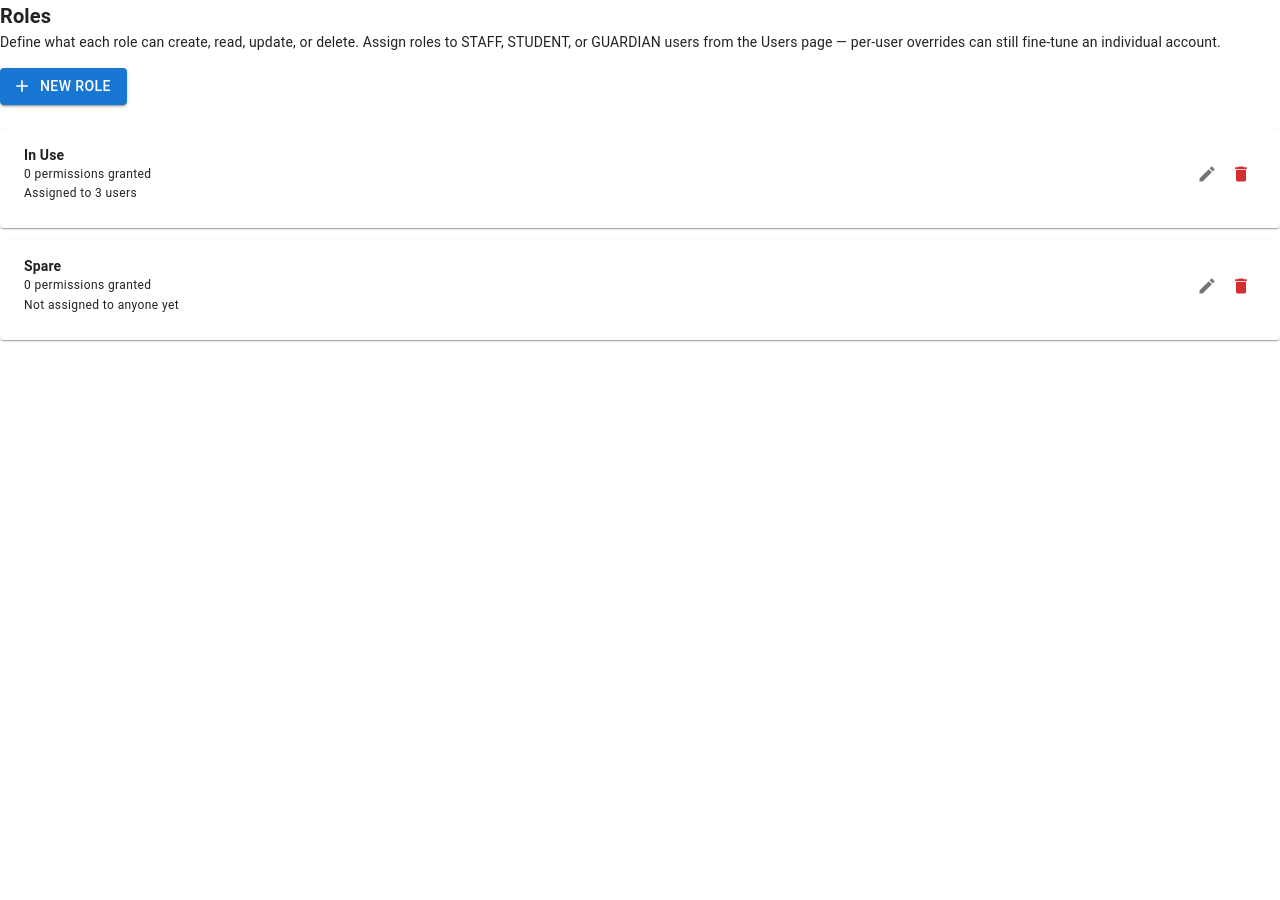
Test: RolesManager › says how many users hold each role and warns before deleting one that is in use
The width and height of the screenshot is (1280, 900).
Expected: the text "Assigned to 3 users" is shown, [24, 184, 152, 204]
Expected: the text "Not assigned to anyone yet" is shown, [24, 296, 179, 316]
Click the button with test id "DeleteIcon" at point(1241, 174), box [1226, 159, 1256, 189]
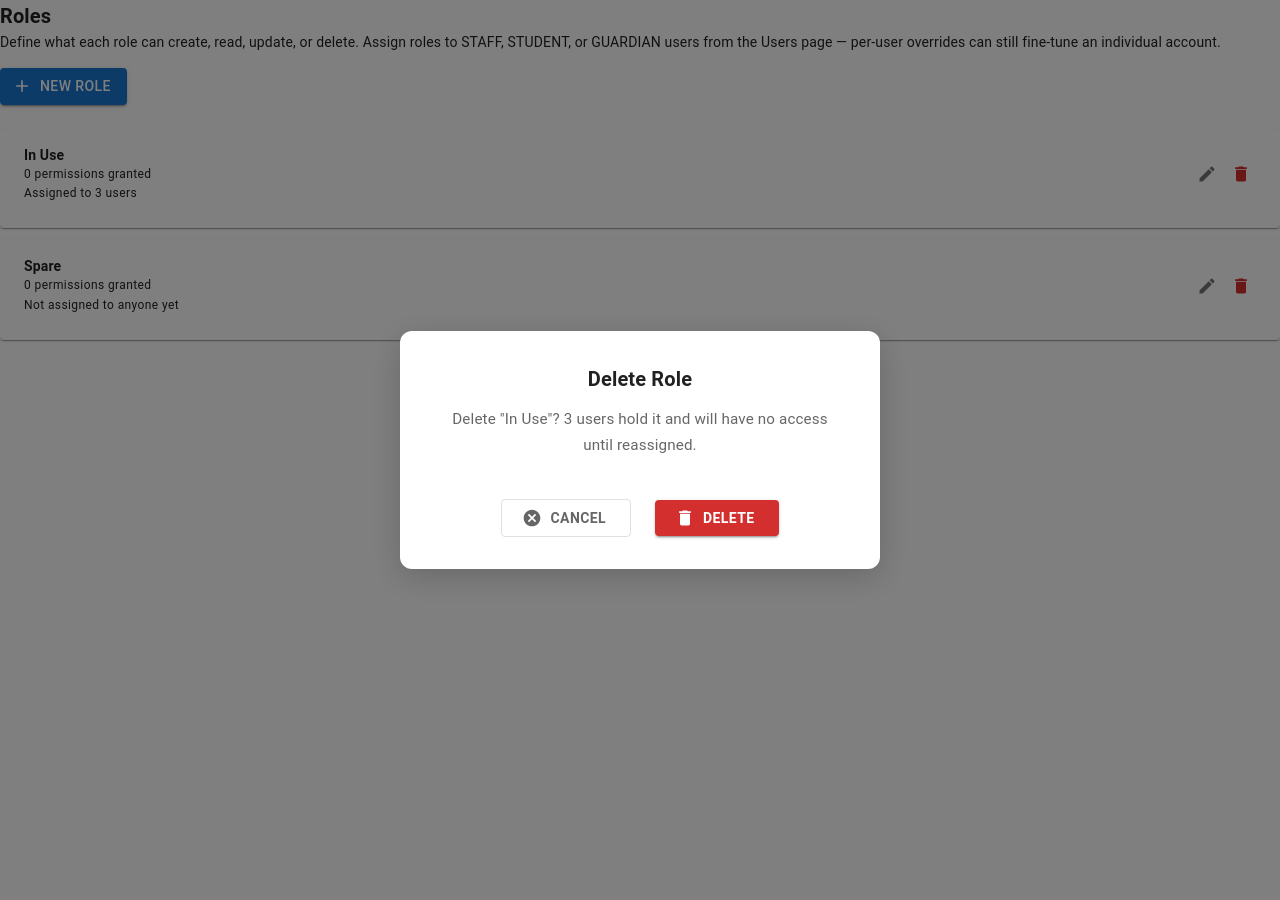
Now the text "3 users hold it and will have no access" is shown, box [452, 410, 828, 454]
